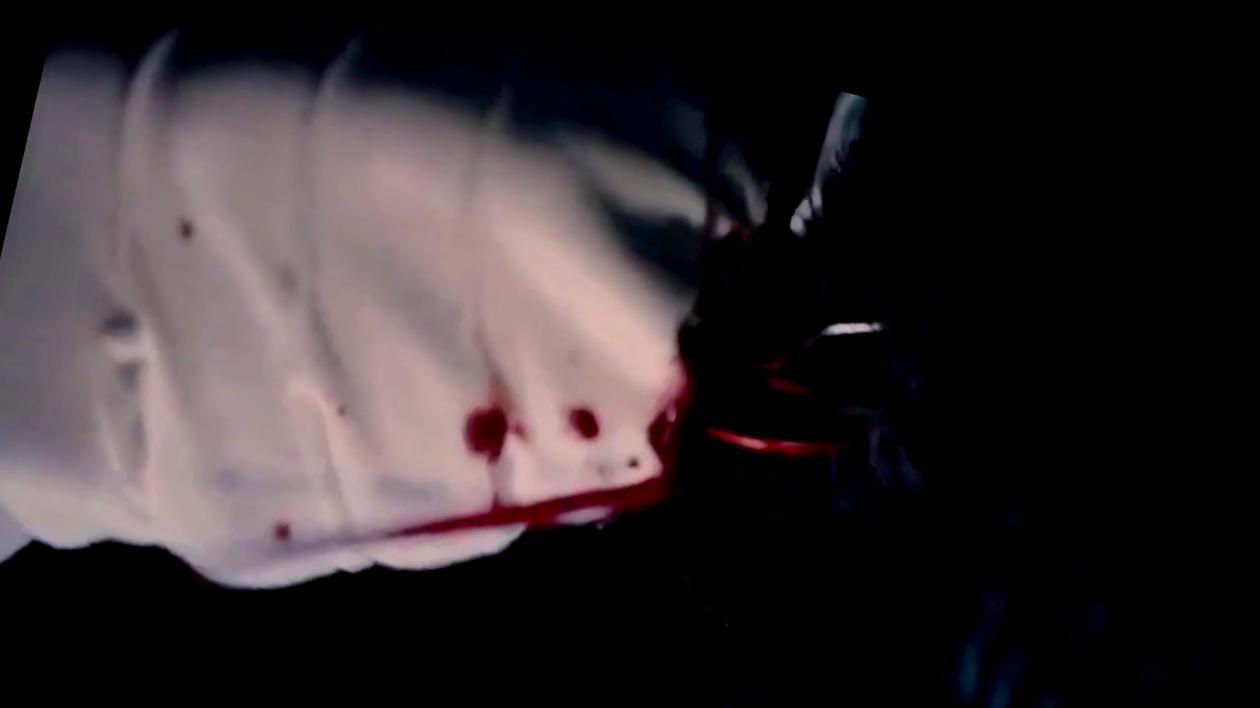Fire: (433, 208, 879, 526), (464, 355, 530, 457), (650, 385, 684, 457), (388, 510, 478, 529), (572, 401, 599, 429), (279, 520, 293, 535), (632, 448, 648, 460), (179, 219, 191, 233)
